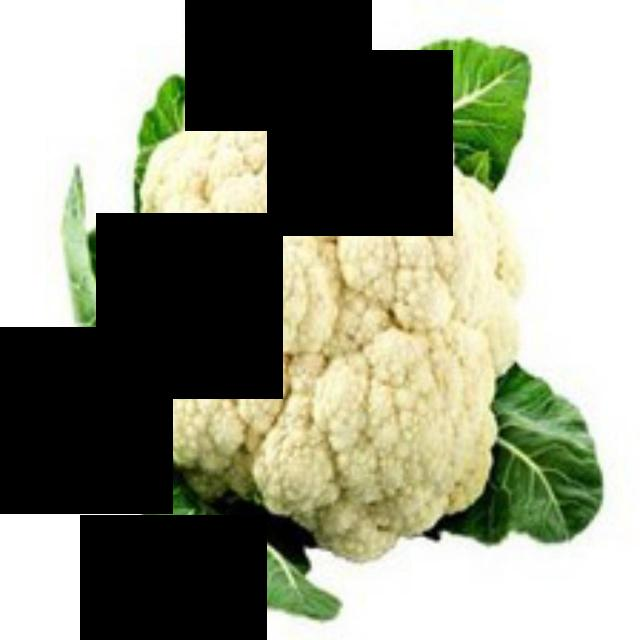cauliflower: (104, 48, 536, 565)
